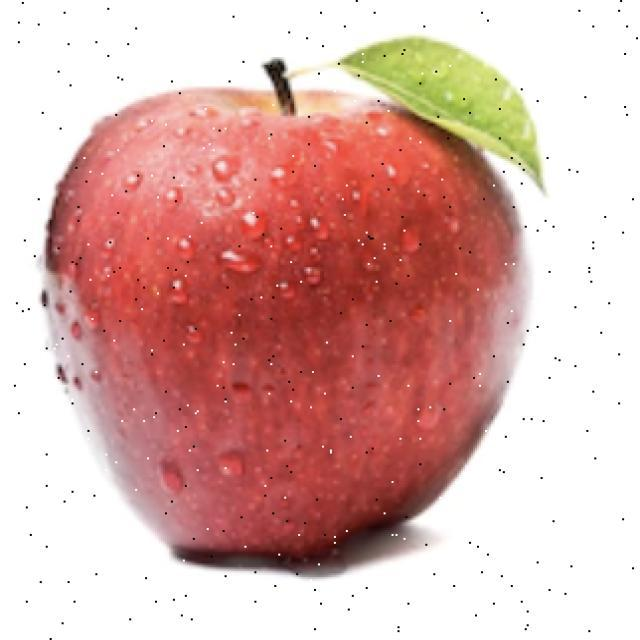Apple: (41, 42, 537, 566)
